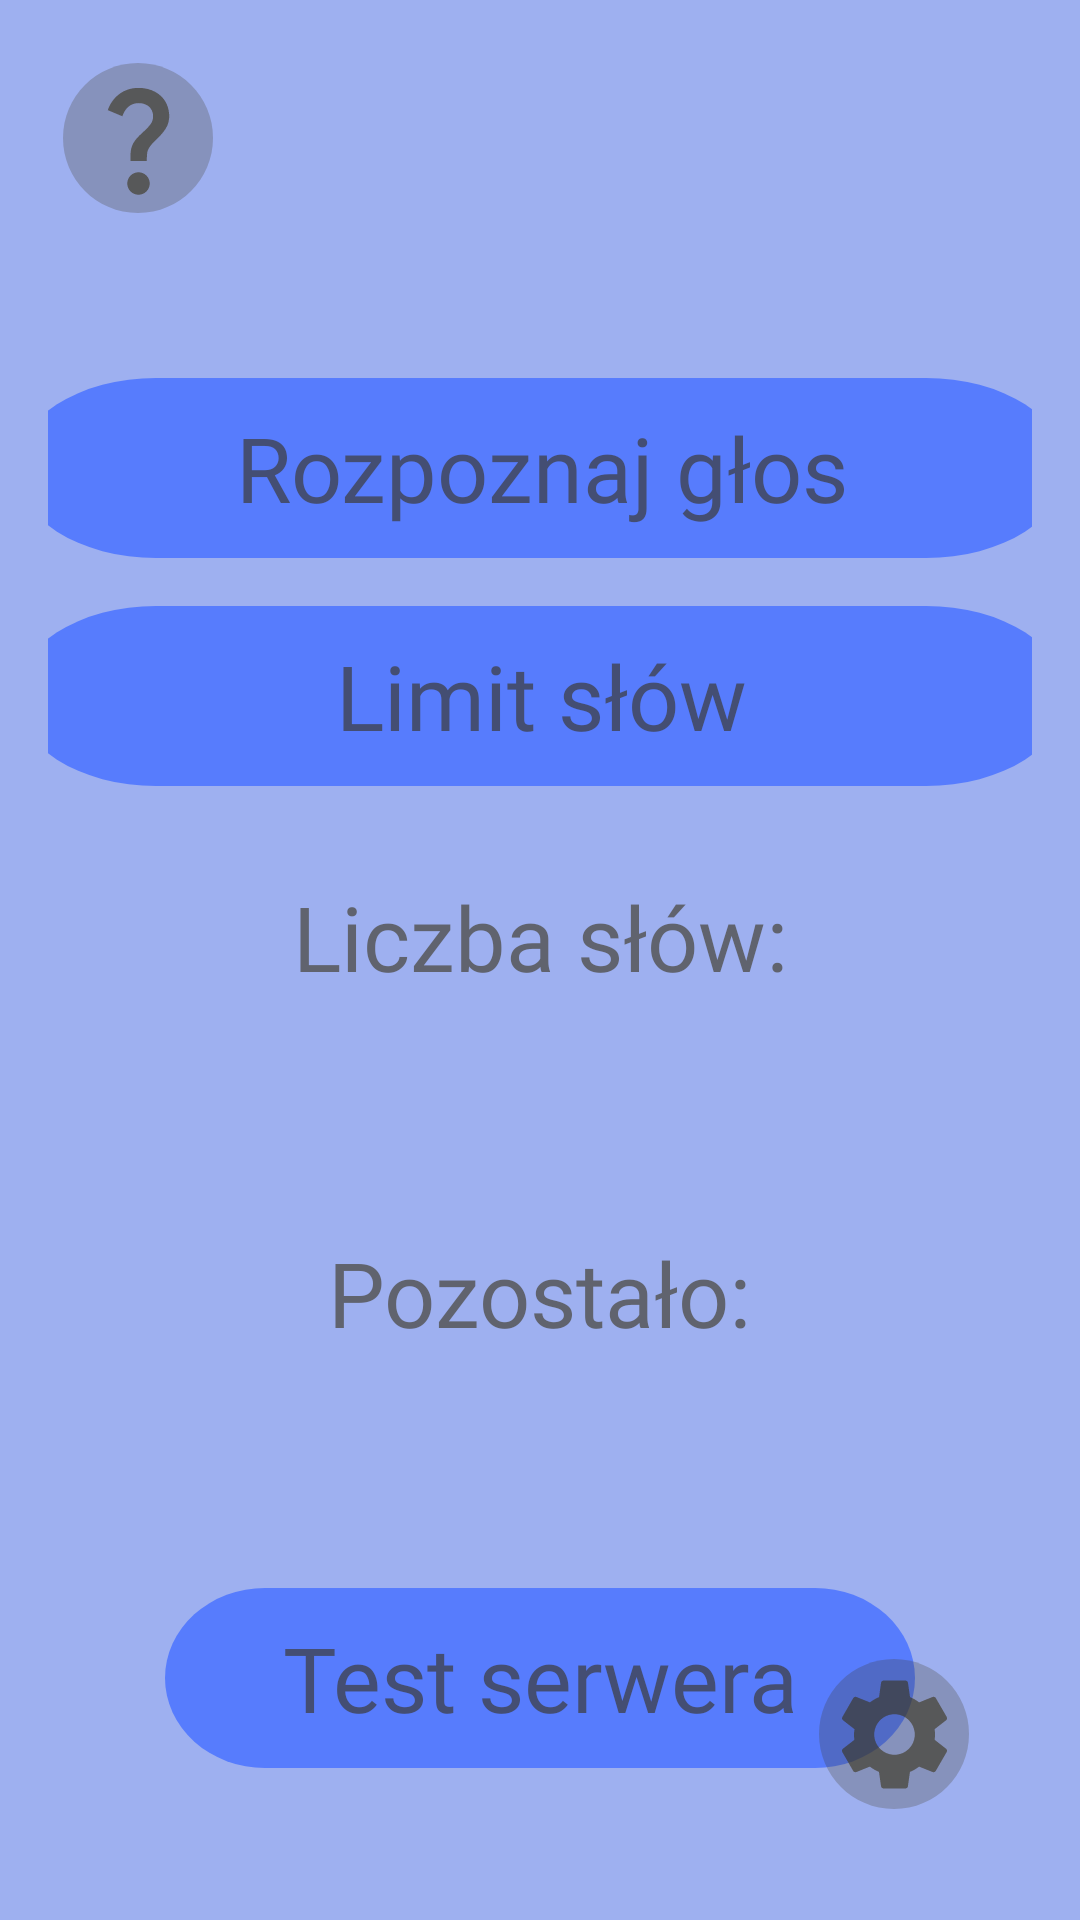

Point at icon controls on the screen. Image size 1080 × 1920, points as (x=x, y=y).
settings: (x=886, y=1726)
